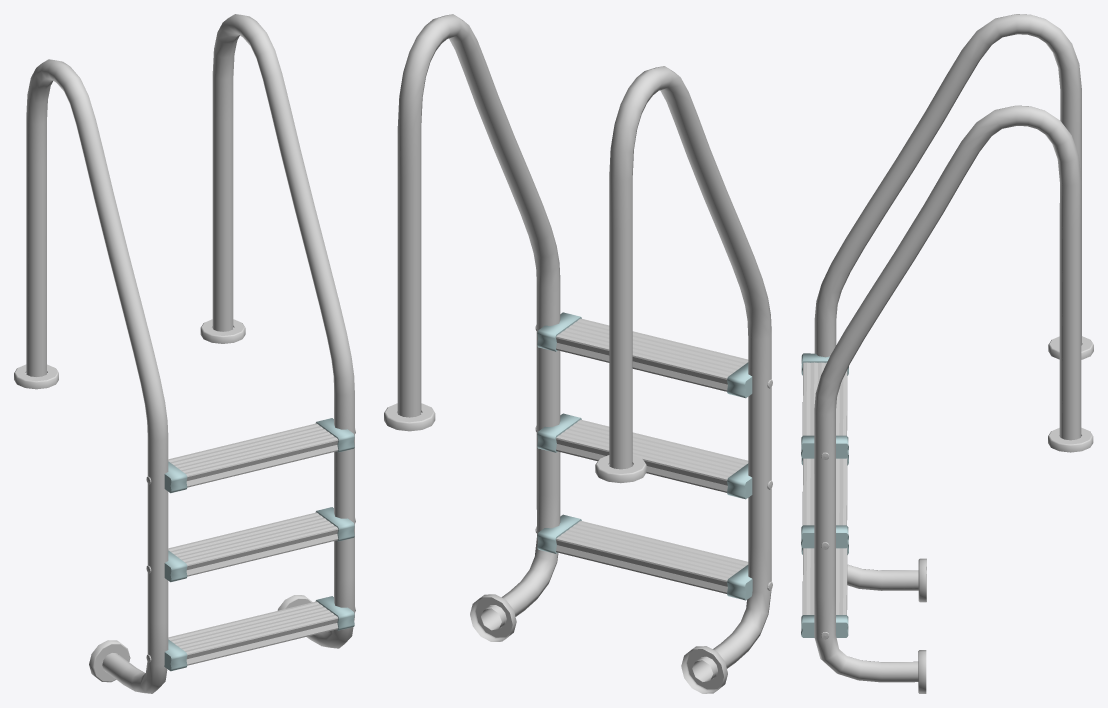
The model's file is ladder-pool.glb.
The picture shows the model from 3 angles, left to right: view 1: azimuth 30°, elevation 25°; view 2: azimuth 150°, elevation 25°; view 3: azimuth 270°, elevation 25°; orthographic projection. The views are drawn at different scales.
Visible parts, largest first — view 1: ladder-pool_tib1; view 2: ladder-pool_tib1; view 3: ladder-pool_tib1.
Part boxes in pixels (x1,y1,x2,y2): ladder-pool_tib1: (14,14,355,693); ladder-pool_tib1: (384,14,772,693); ladder-pool_tib1: (801,14,1093,693).
Size of the model in its own units: 0.5583 by 1.38 by 0.6236.
